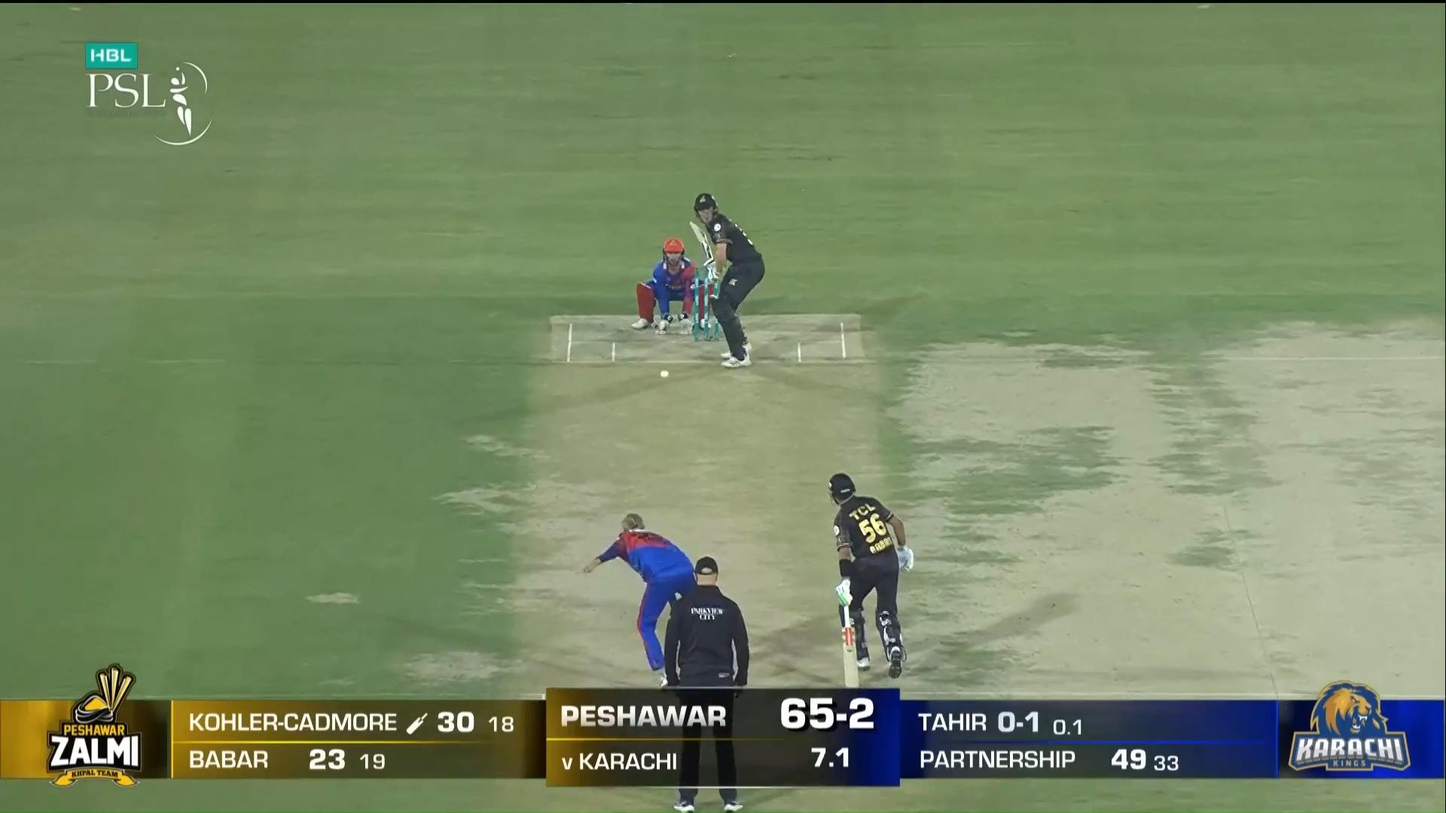batsman: (689, 192, 765, 369)
